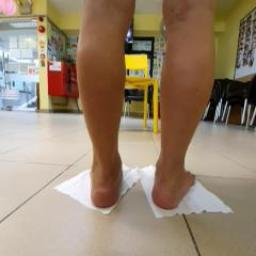Back View -Both Feet-: (71, 121, 205, 225)
